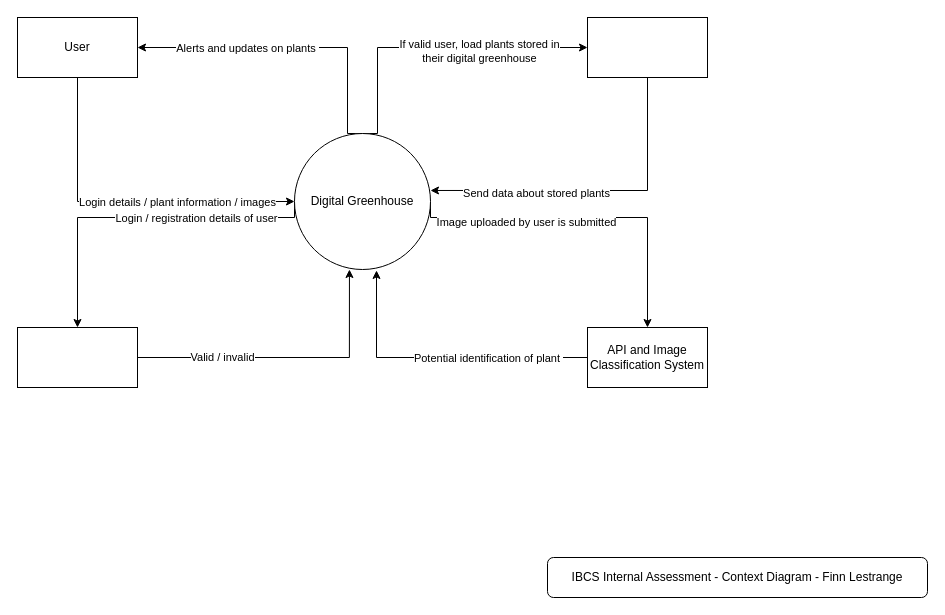
Image size: 945x615. Some labels were removed from this diagram. Each missing label, with the box of its shape:
Authentication System: (16, 326, 138, 388)
Backend Server: (586, 16, 708, 78)
